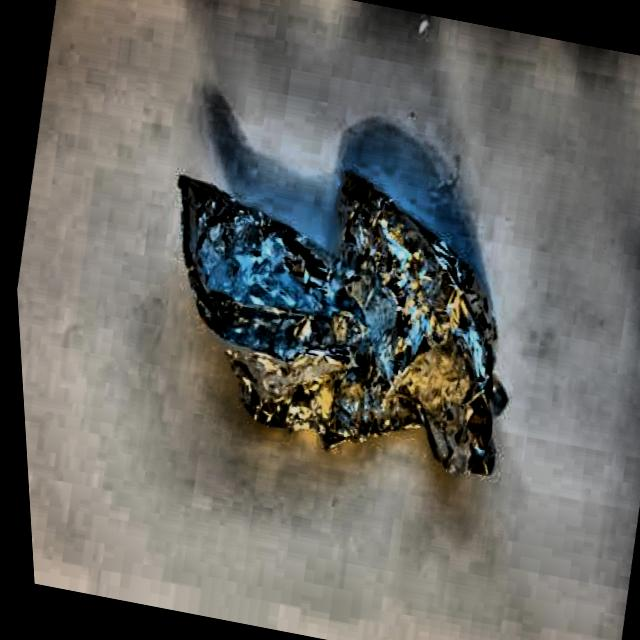Foil: (121, 130, 553, 502)
